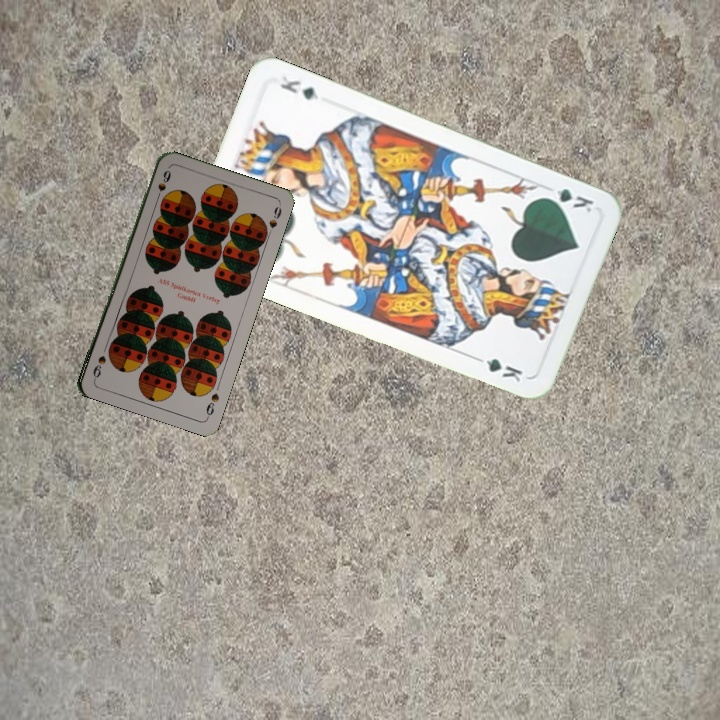GK: (539, 184, 597, 216)
S9: (152, 166, 172, 204), (202, 389, 222, 420)
